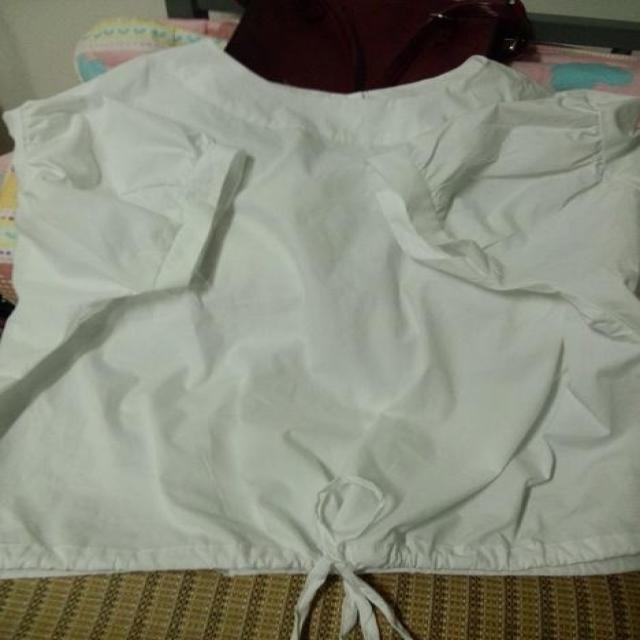short-sleeve-top: (15, 40, 640, 581)
